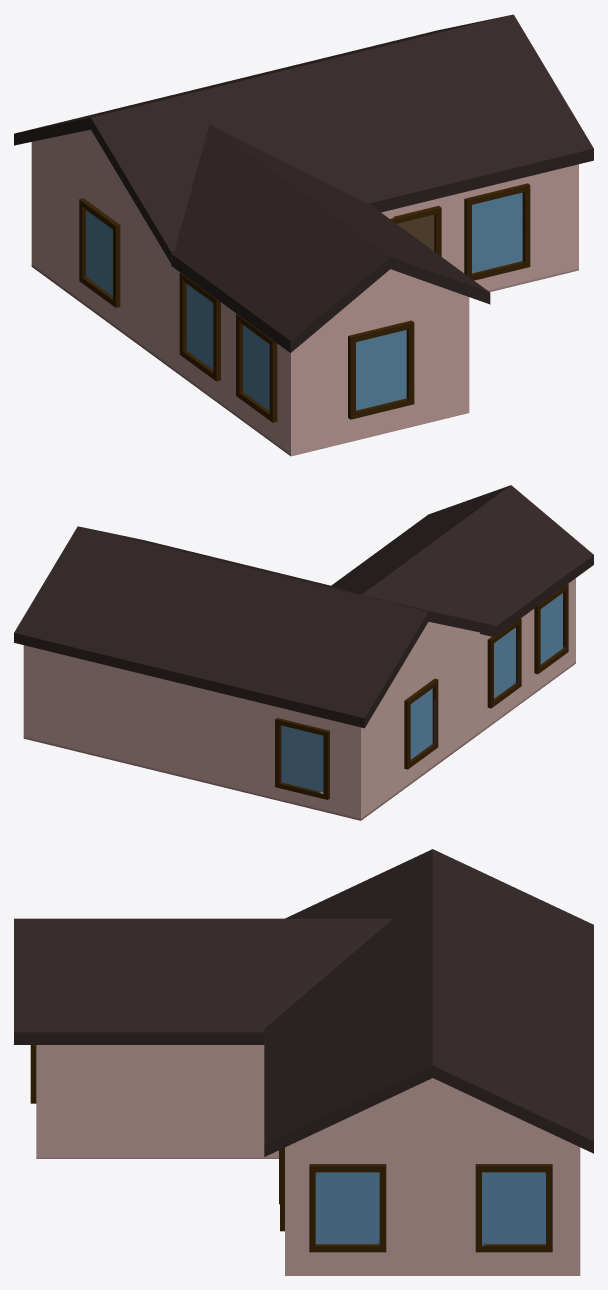
Rendered from OSHouse04.glb.
3 renders of one model, top to bottom at view 1: azimuth 30°, elevation 25°; view 2: azimuth 150°, elevation 25°; view 3: azimuth 270°, elevation 25°, orthographic. The views are drawn at different scales.
Visible parts, largest first — view 1: OSHouse04Roof, OSHouse04; view 2: OSHouse04Roof, OSHouse04; view 3: OSHouse04Roof, OSHouse04.
Boxes of the visible parts, x1,y1,x2,y2 form: OSHouse04Roof: [14, 14, 593, 352]; OSHouse04: [31, 129, 578, 456]; OSHouse04Roof: [14, 485, 593, 728]; OSHouse04: [23, 578, 575, 820]; OSHouse04Roof: [14, 849, 593, 1156]; OSHouse04: [30, 1045, 580, 1275].
Size of what is drawn, in the model's own units: 6.06 by 2.78 by 6.87.
Materials: 2 (1 with a texture image).
